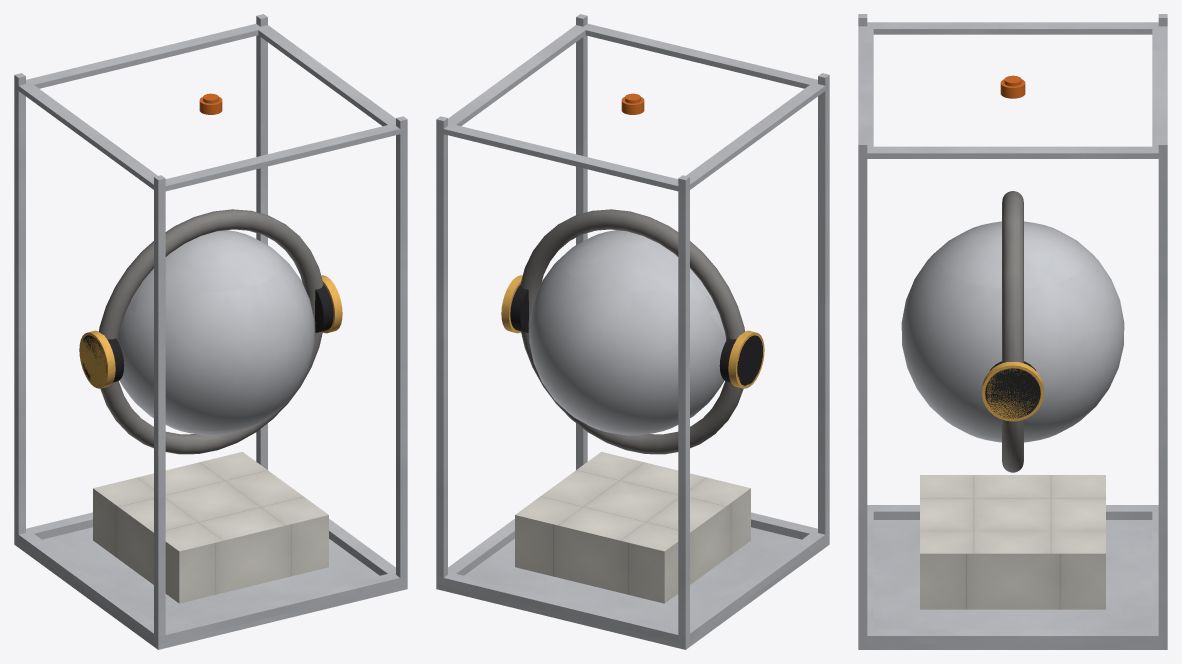
The model's file is power15_control_moment_gyro.glb.
The picture shows the model from 3 angles, left to right: view 1: azimuth 30°, elevation 25°; view 2: azimuth 150°, elevation 25°; view 3: azimuth 270°, elevation 25°; orthographic projection. The views are drawn at different scales.
Visible parts, largest first — view 1: slot_frame, rotor_sphere, electronics, frame_rails, gimbal_ring, gimbal_motor_caps, gimbal_motors; view 2: slot_frame, rotor_sphere, electronics, frame_rails, gimbal_ring, gimbal_motors, gimbal_motor_caps; view 3: rotor_sphere, slot_frame, electronics, frame_rails, gimbal_ring, gimbal_motors, gimbal_motor_caps, port_1.
Boxes of the visible parts, x1,y1,x2,y2 form: slot_frame: [14, 14, 407, 649]; rotor_sphere: [117, 230, 314, 435]; electronics: [93, 452, 328, 603]; frame_rails: [14, 23, 407, 644]; gimbal_ring: [99, 209, 323, 454]; gimbal_motor_caps: [79, 275, 342, 388]; gimbal_motors: [82, 284, 333, 385]; slot_frame: [436, 14, 829, 649]; rotor_sphere: [529, 230, 726, 435]; electronics: [515, 452, 750, 603]; frame_rails: [436, 23, 829, 644]; gimbal_ring: [520, 209, 744, 454]; gimbal_motors: [510, 284, 762, 385]; gimbal_motor_caps: [501, 275, 764, 388]; rotor_sphere: [901, 221, 1124, 442]; slot_frame: [858, 14, 1167, 649]; electronics: [920, 475, 1105, 609]; frame_rails: [858, 22, 1167, 644]; gimbal_ring: [1002, 191, 1023, 472]; gimbal_motors: [985, 361, 1040, 418]; gimbal_motor_caps: [982, 362, 1043, 421]; port_1: [1000, 75, 1025, 98].
Bounding box in the file's own units: 1 × 1.8 × 1.
6 materials, 4 textured.
